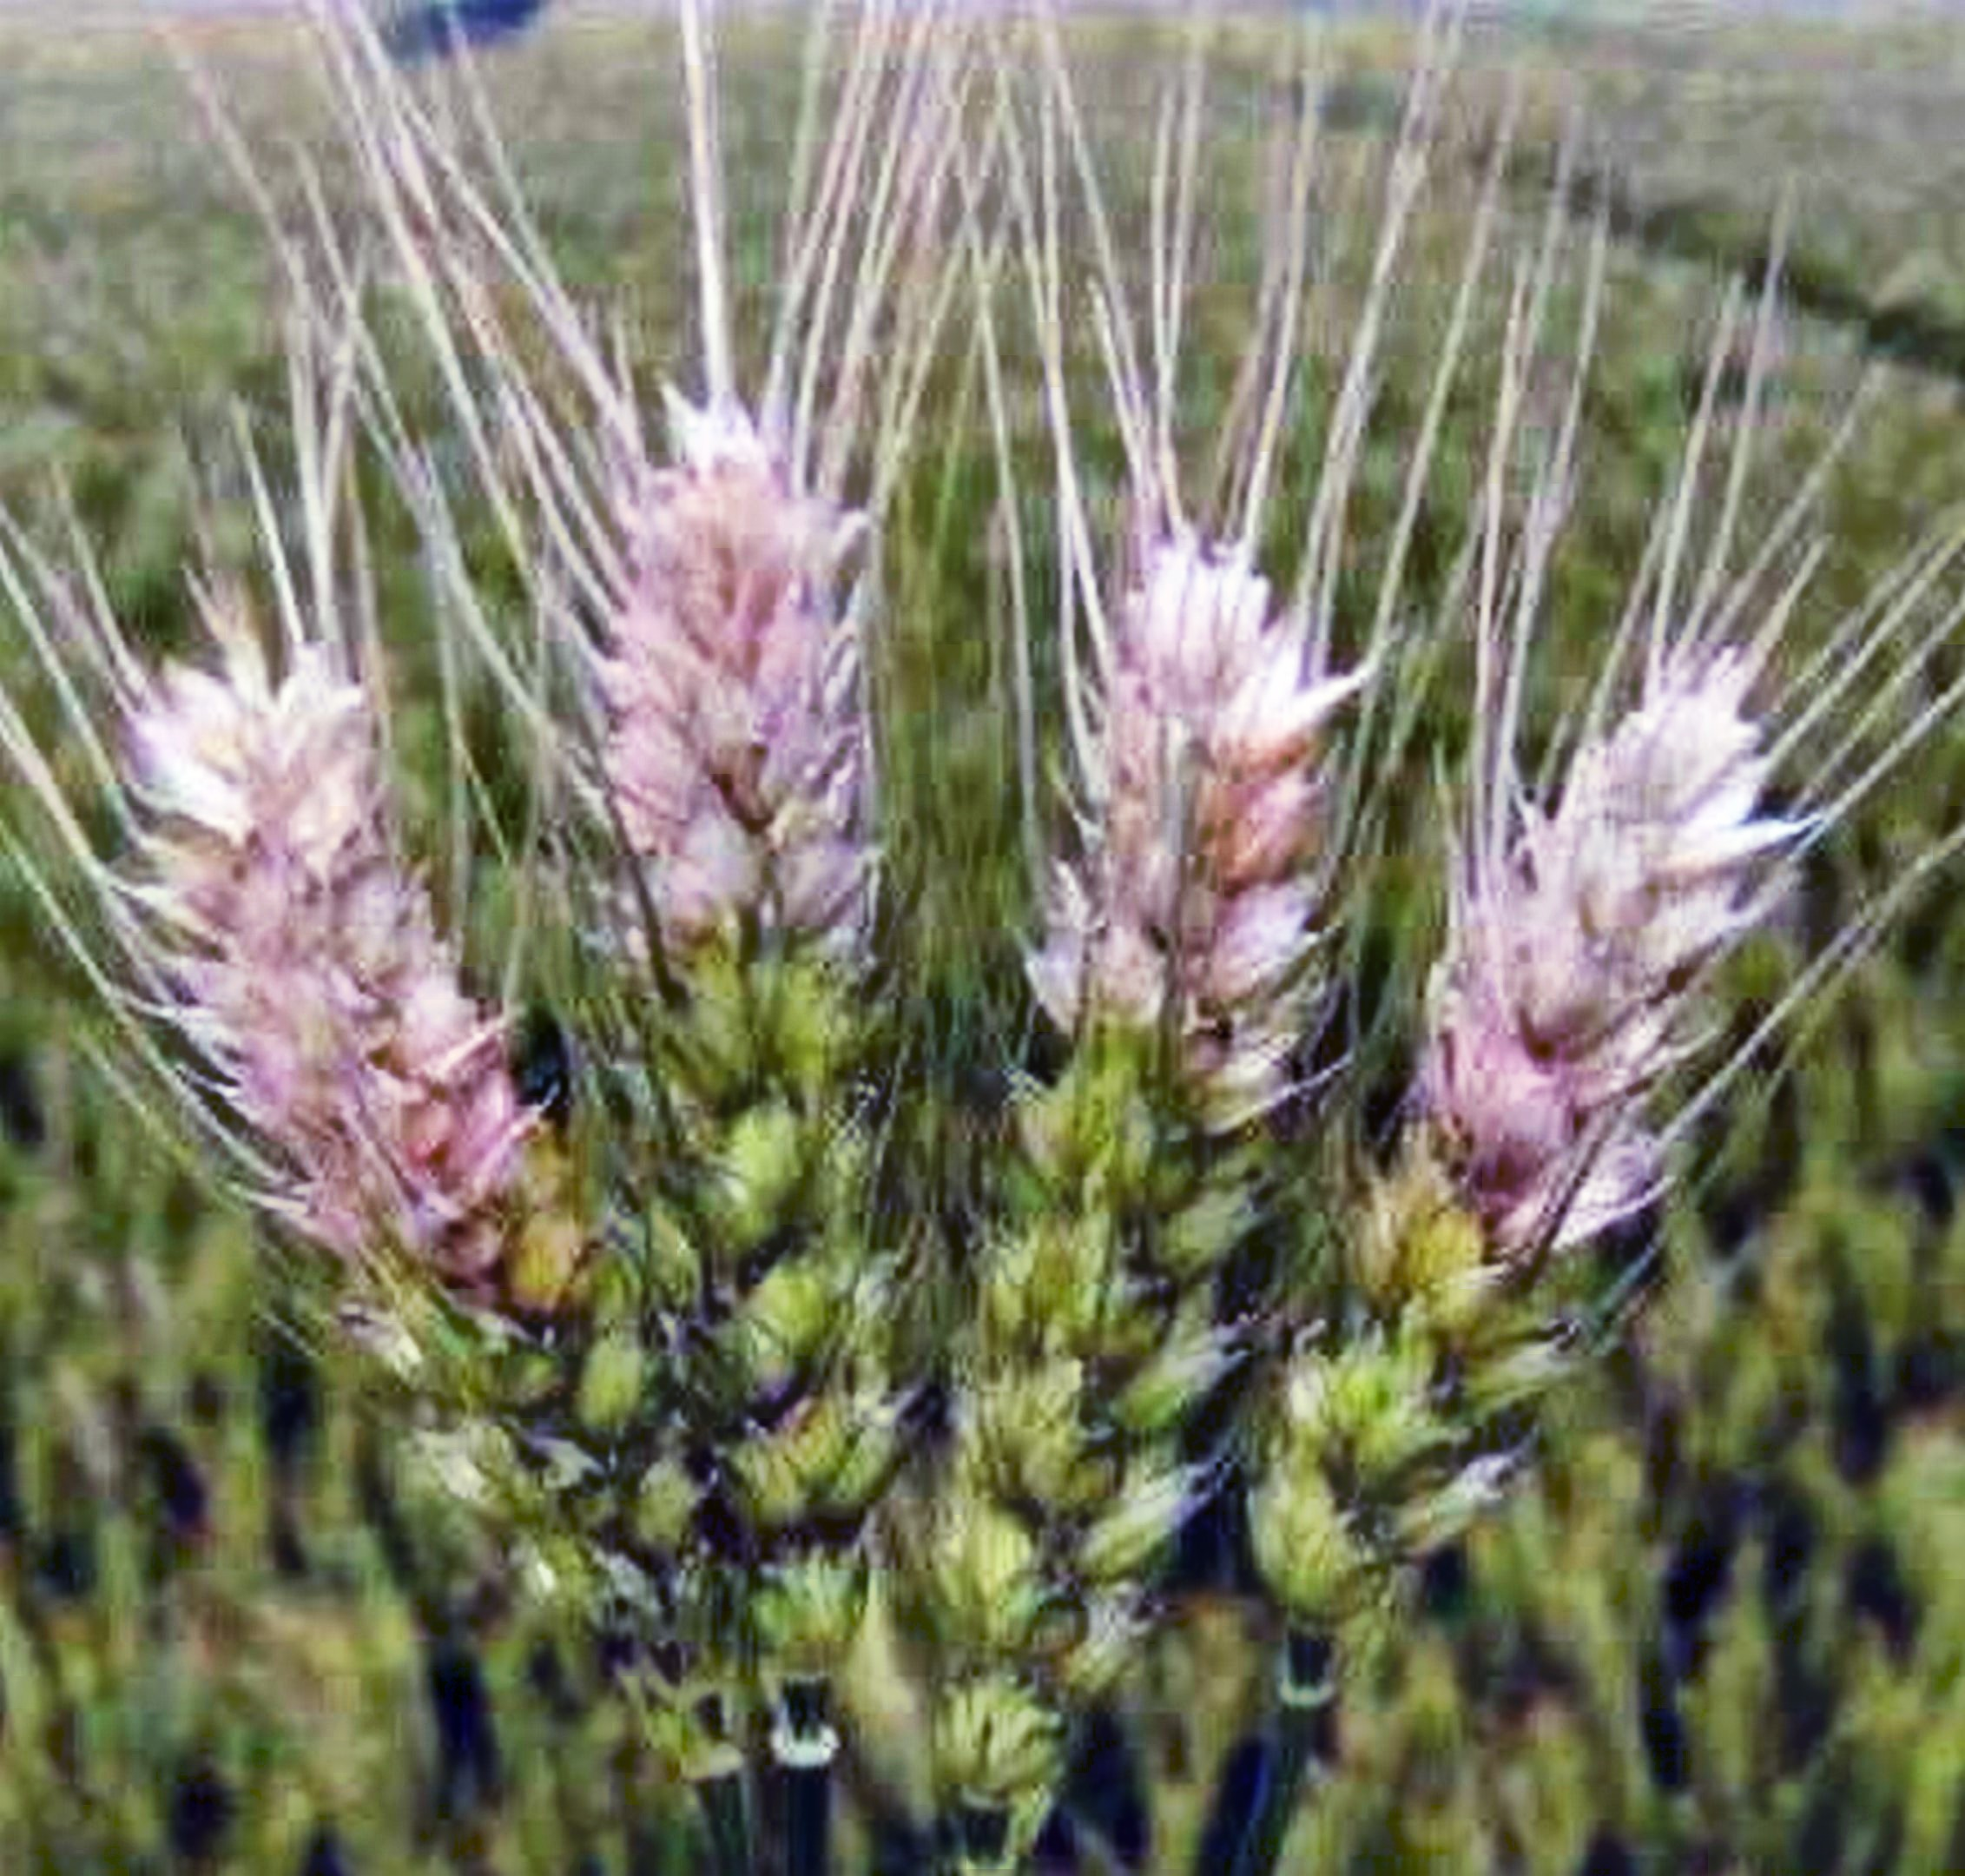Wheat scab: (584, 376, 1311, 1708), (68, 621, 584, 1639)
